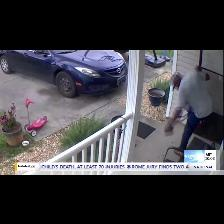person: (165, 67, 212, 151)
